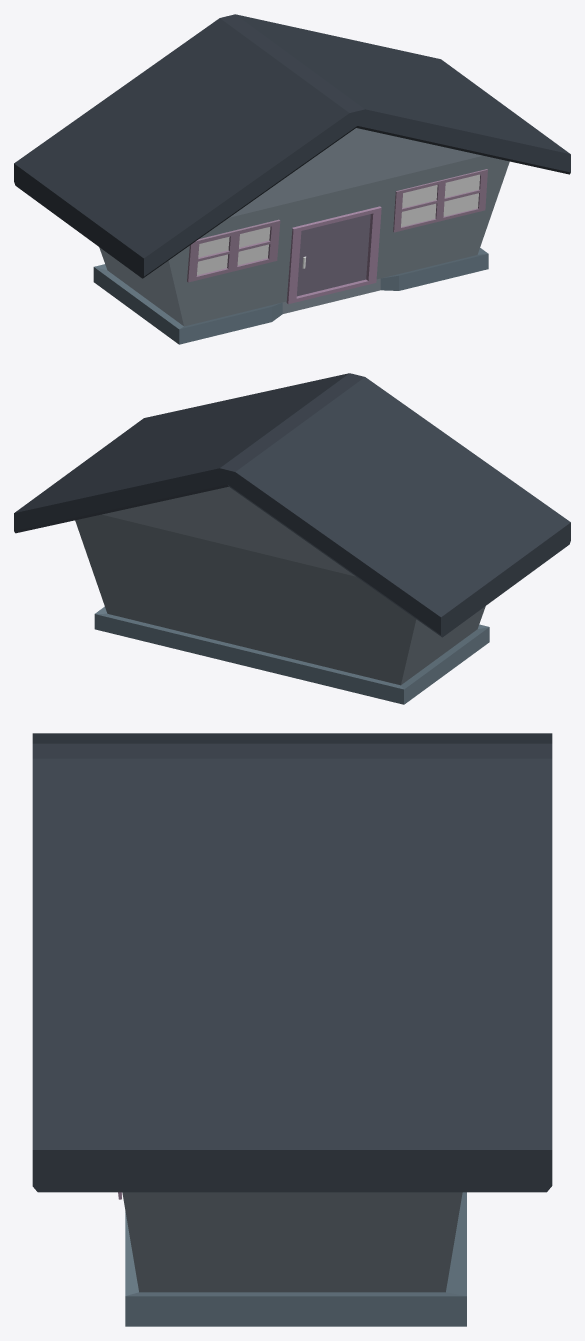
The model's file is HOUSE WIDE (BLUE).fbx.
3 renders of one model, top to bottom at view 1: azimuth 30°, elevation 25°; view 2: azimuth 150°, elevation 25°; view 3: azimuth 270°, elevation 25°, orthographic. The views are drawn at different scales.
Parts seen in each view (by area): view 1: Roof, House, Front Windows, Door; view 2: Roof, House; view 3: Roof, House.
Boxes of the visible parts, left/top/right/bottom form: Roof: left=14, top=14, right=570, bottom=278; House: left=93, top=128, right=509, bottom=344; Front Windows: left=187, top=169, right=487, bottom=282; Door: left=286, top=206, right=381, bottom=304; Roof: left=14, top=373, right=570, bottom=637; House: left=75, top=487, right=489, bottom=704; Roof: left=32, top=733, right=552, bottom=1192; House: left=122, top=1192, right=466, bottom=1326.
Size of the model in its own units: 2145 by 1020 by 1130.
